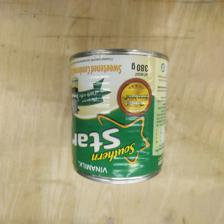NSPN_Lon: (67, 47, 167, 185)
